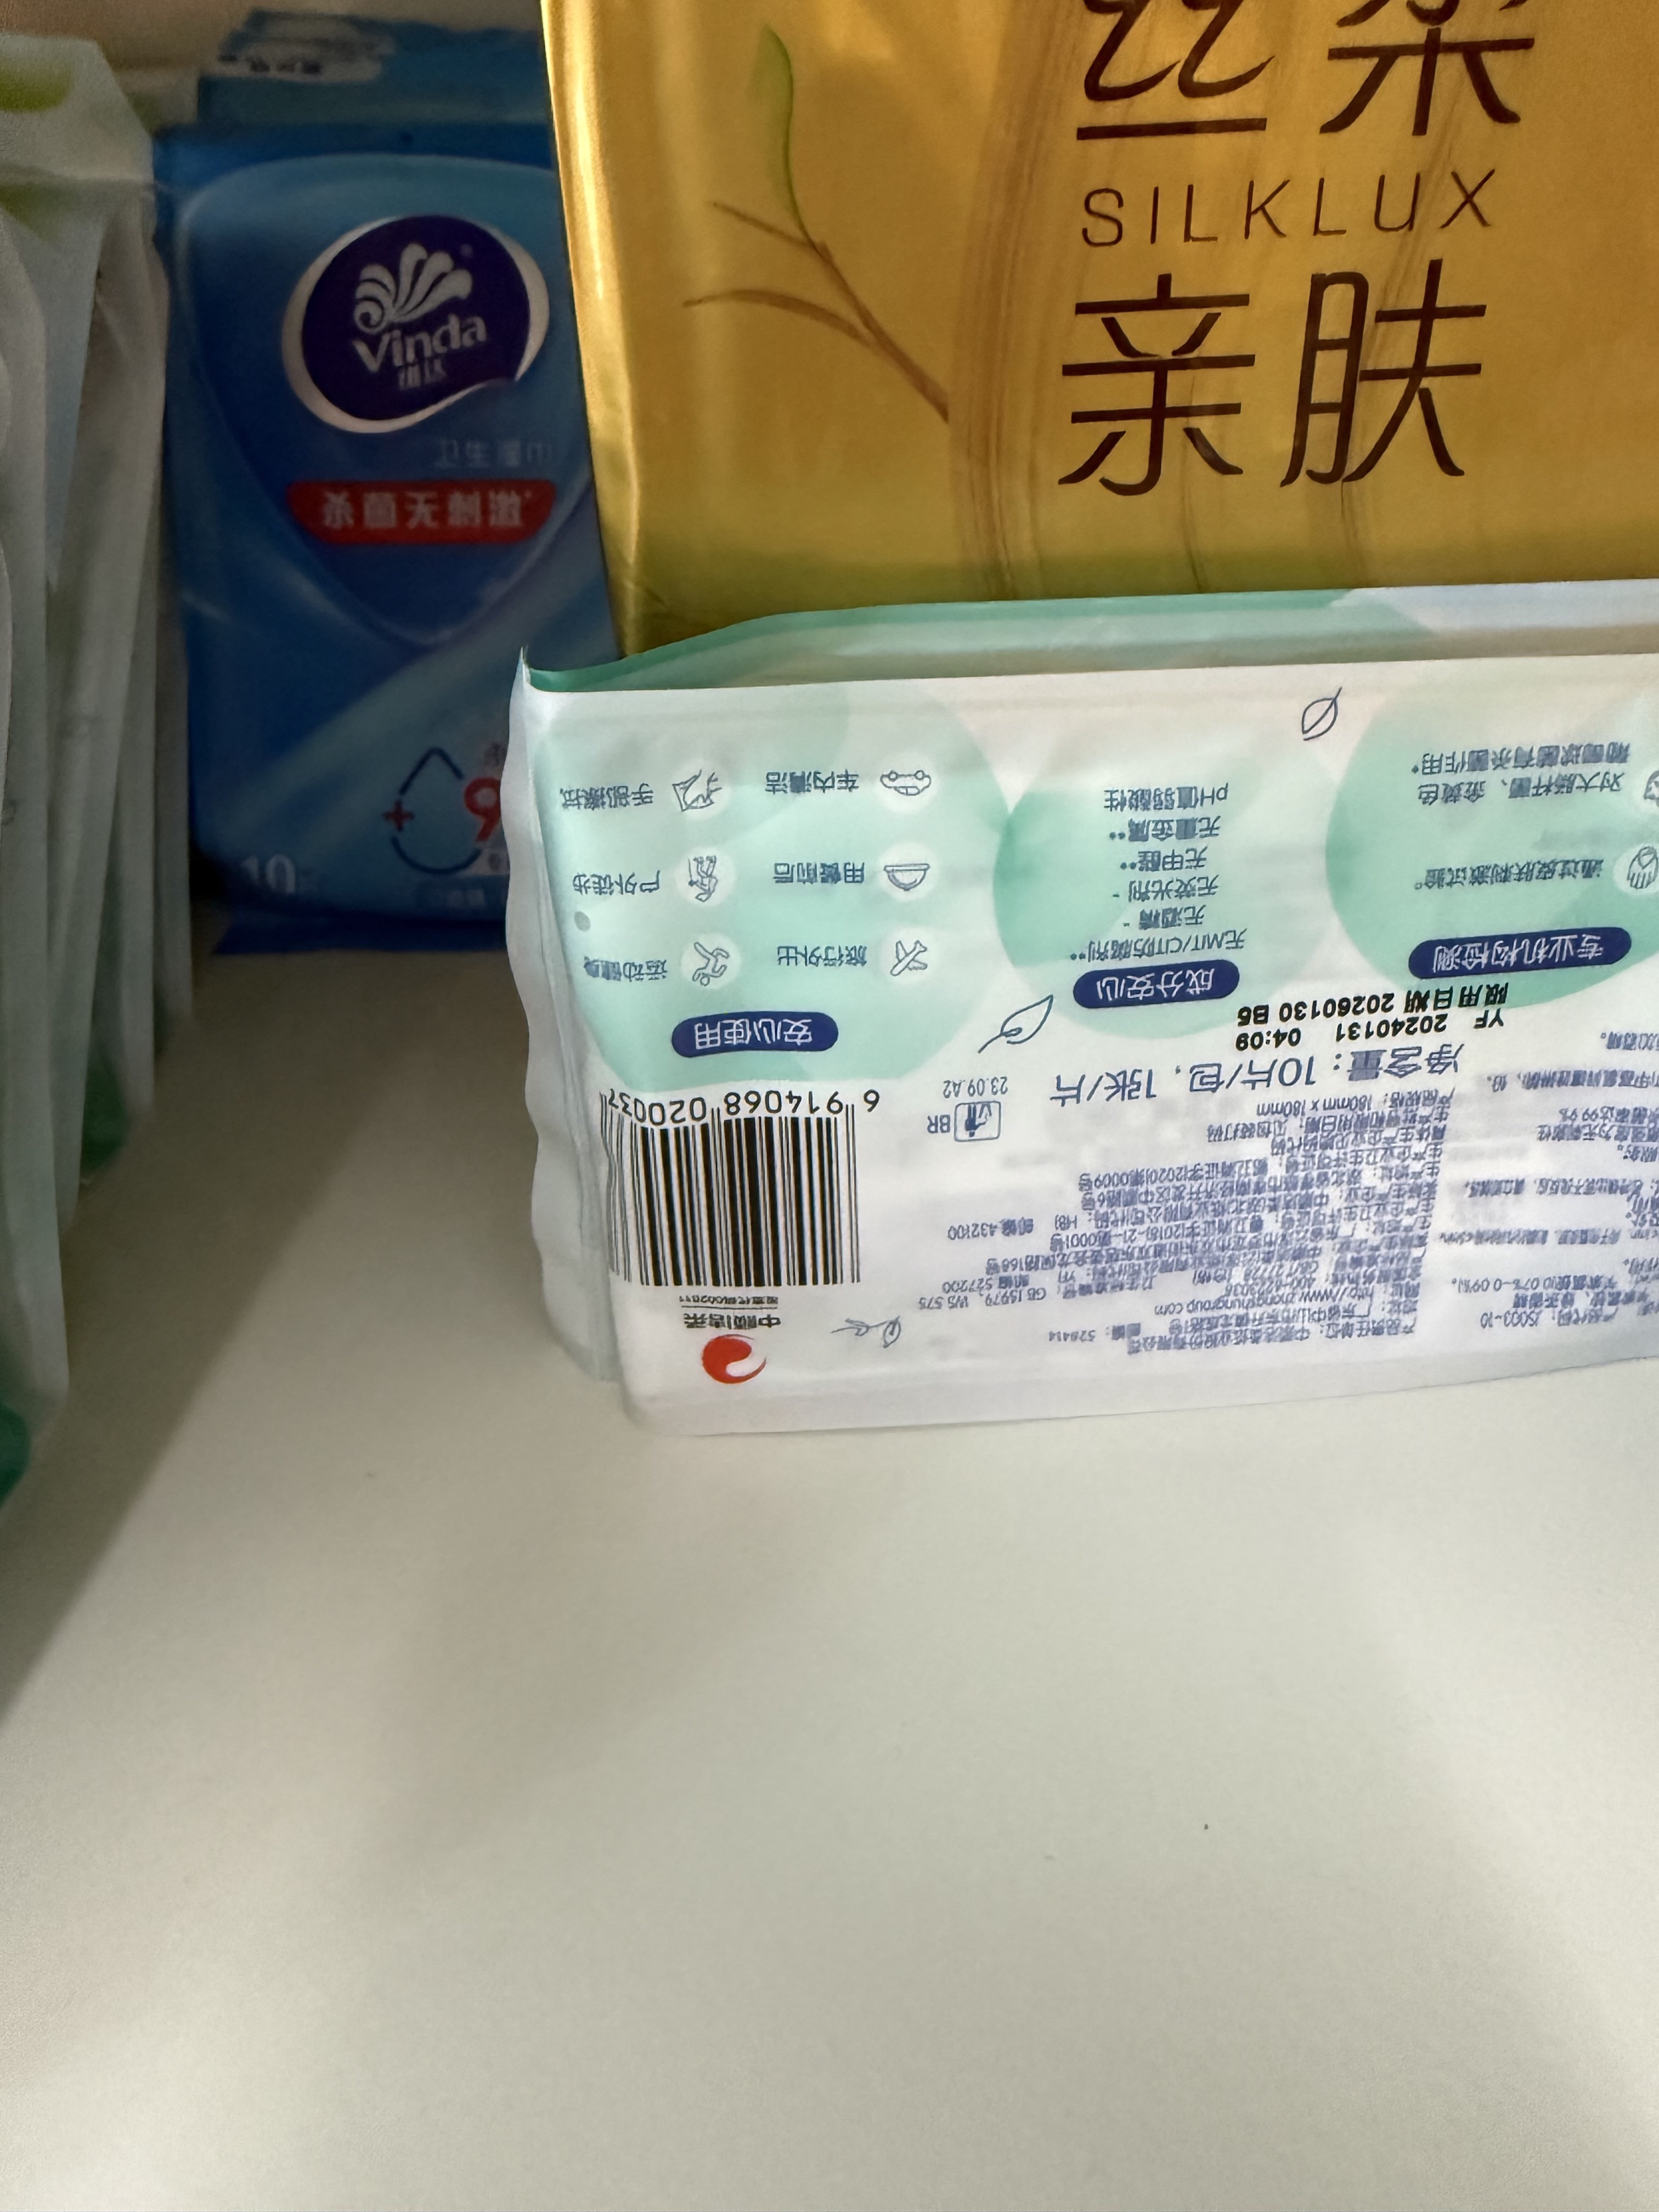bar: (586, 1085, 875, 1296)
